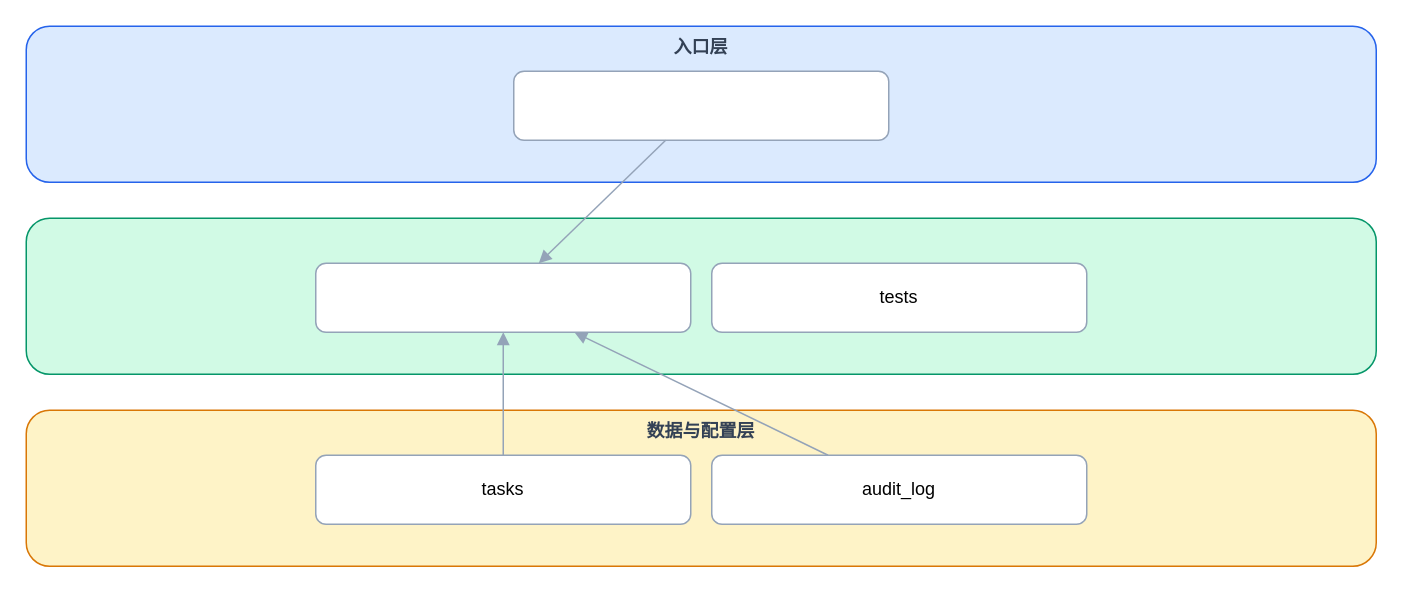
This 1403x593 diagram has some shape labels left out. Each missing label, with the box of its shape:
(根目录): (314, 262, 691, 332)
server.js: (512, 70, 889, 140)
业务模块层: (25, 217, 1376, 374)
